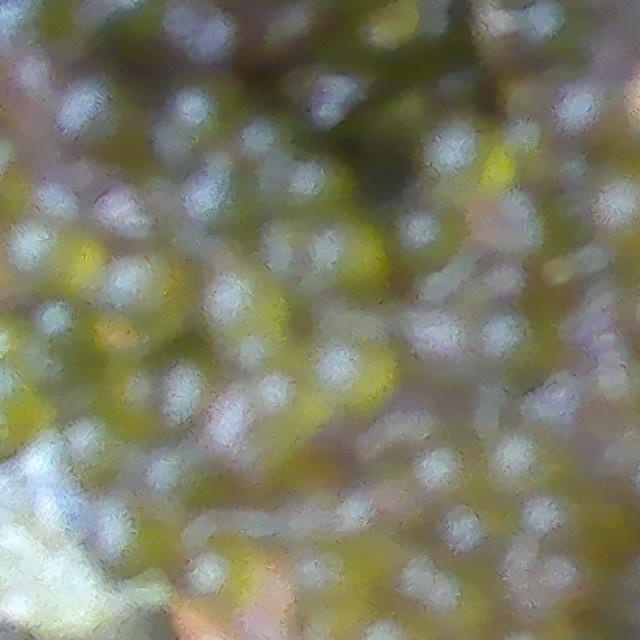SeaGrape: (117, 252, 187, 334), (217, 274, 292, 344), (324, 345, 392, 415), (96, 499, 159, 569), (320, 227, 385, 294), (429, 517, 506, 566)
